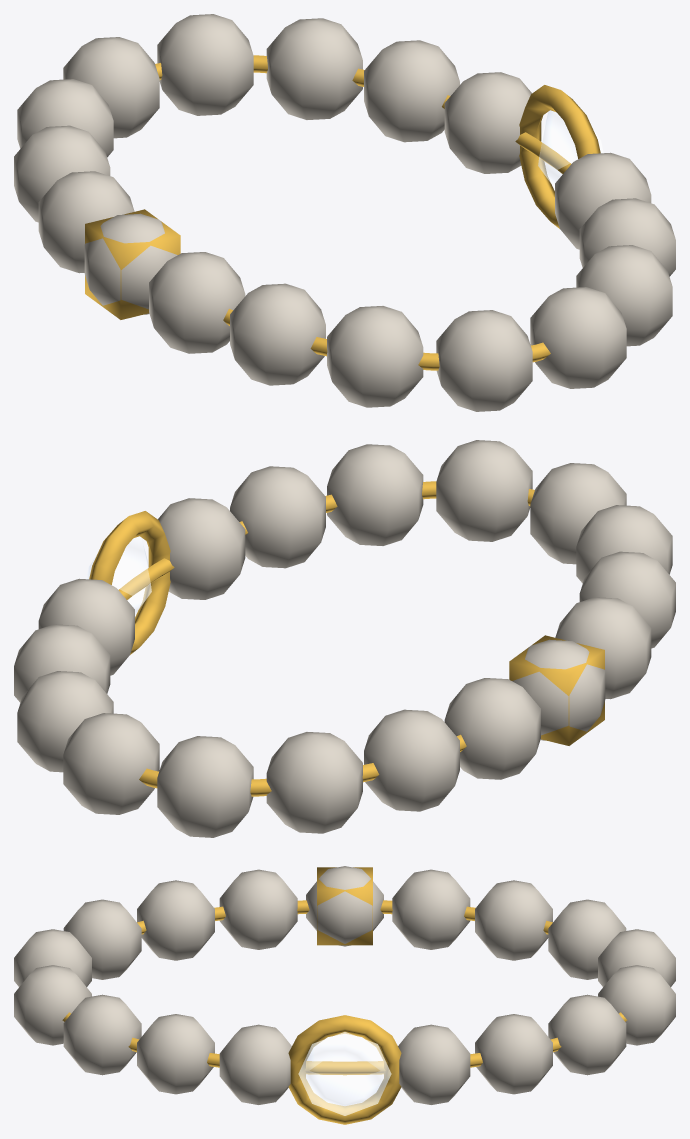
The model's file is pearl_bracelet.glb.
3 views of the same model, one above another, from view 1: azimuth 30°, elevation 25°; view 2: azimuth 150°, elevation 25°; view 3: azimuth 270°, elevation 25° (orthographic). The views are drawn at different scales.
Parts seen in each view (by area): view 1: pearl_bracelet; view 2: pearl_bracelet; view 3: pearl_bracelet.
Part boxes in pixels (<box>): pearl_bracelet: <box>14,14,675,411</box>; pearl_bracelet: <box>14,440,675,837</box>; pearl_bracelet: <box>14,866,675,1124</box>.
Size of the model in its own units: 0.0486 by 0.013 by 0.071.
